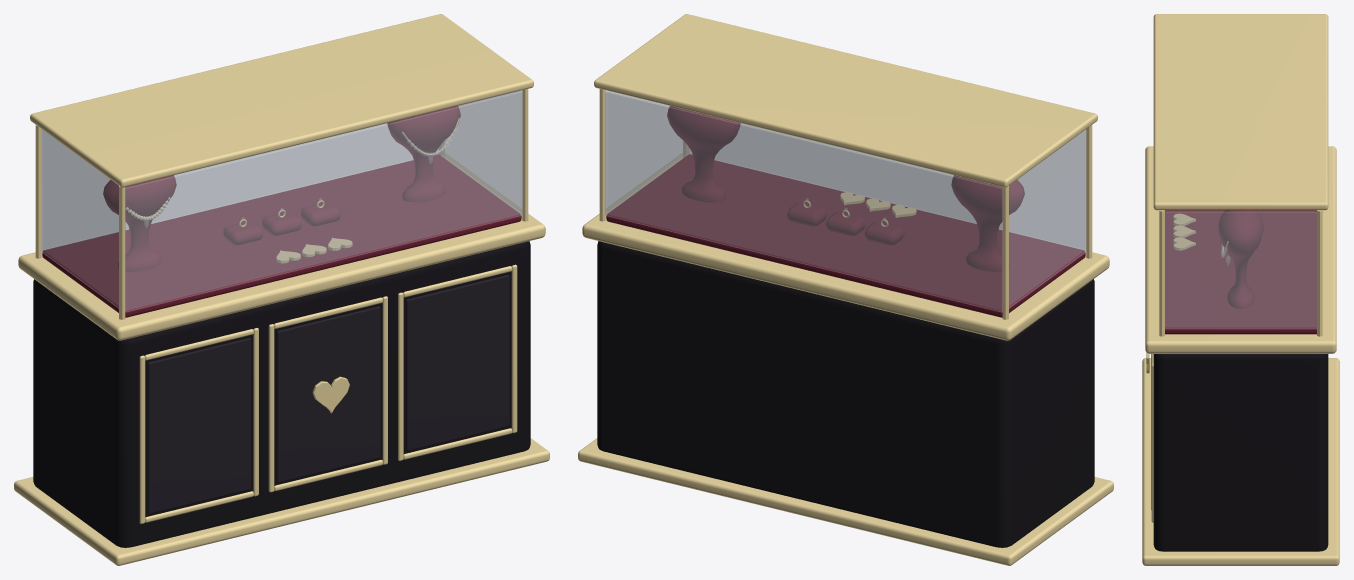
File: case_counter_long.glb
3 renders of one model, left to right at view 1: azimuth 30°, elevation 25°; view 2: azimuth 150°, elevation 25°; view 3: azimuth 270°, elevation 25°, orthographic. The views are drawn at different scales.
Visible parts, largest first — view 1: case_counter_long; view 2: case_counter_long; view 3: case_counter_long.
Part boxes in pixels (left/top/right/bottom): case_counter_long: left=14, top=14, right=549, bottom=565; case_counter_long: left=578, top=14, right=1113, bottom=565; case_counter_long: left=1142, top=14, right=1339, bottom=565.
Bounding box in the file's own units: 1.68 × 1.4 × 0.7.
